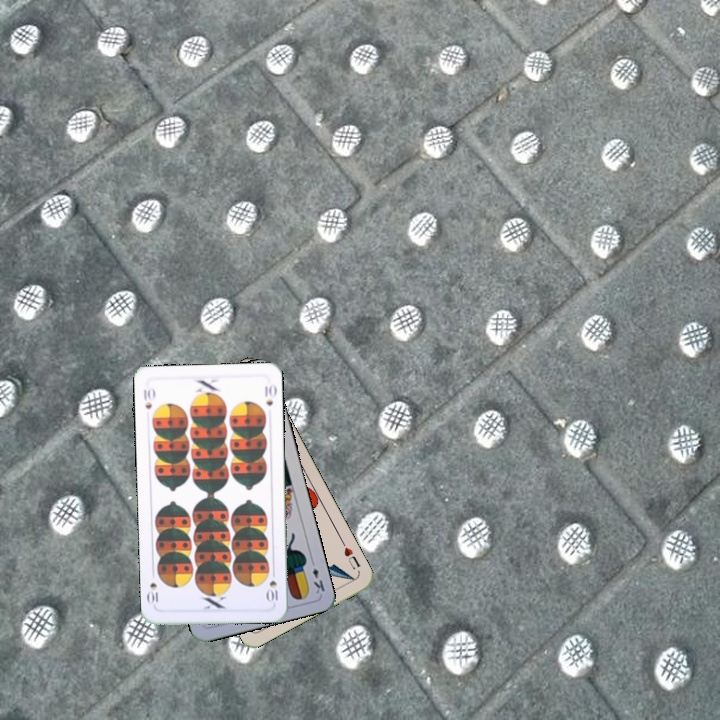EK: (307, 555, 327, 596)
HU: (337, 537, 363, 572)
S10: (264, 566, 280, 605), (139, 384, 157, 412)
